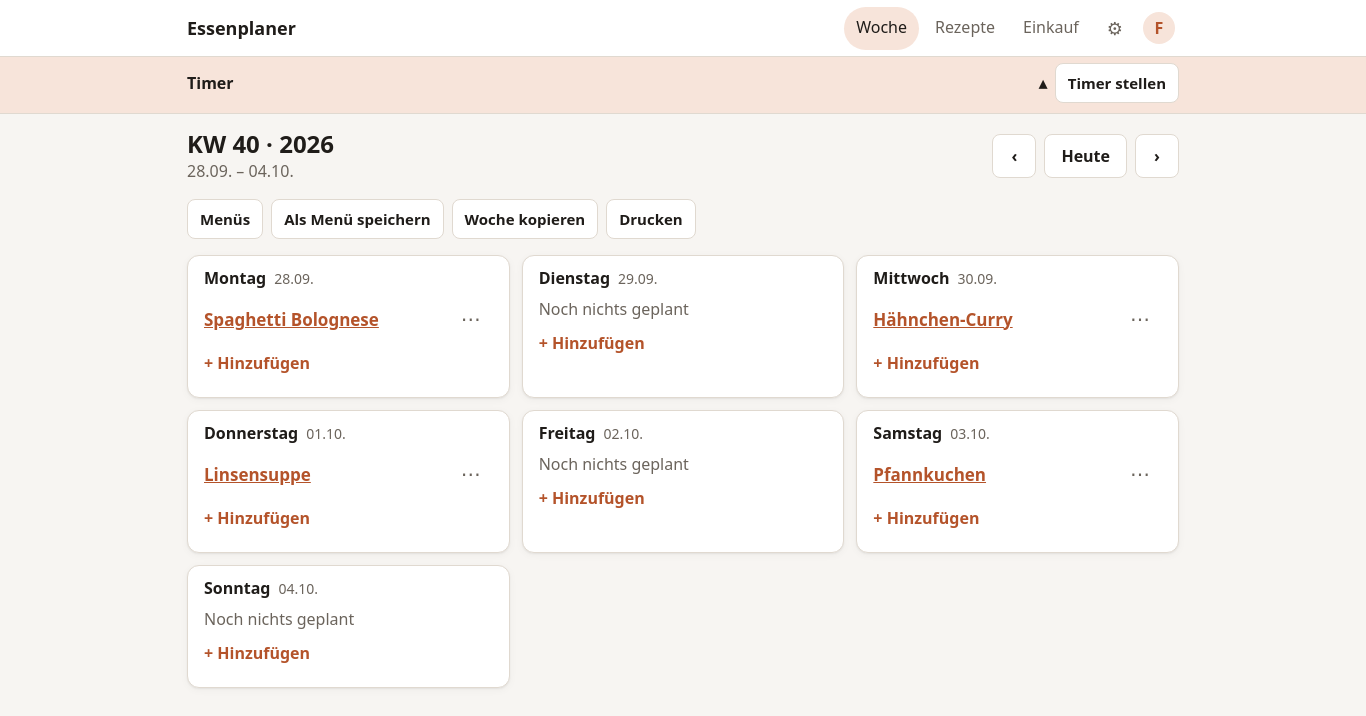
it: Menüs › speichert die angezeigte Woche als Menü
The image size is (1366, 716).
Click the button "Als Menü speichern": (357, 219) [271, 199, 444, 239]
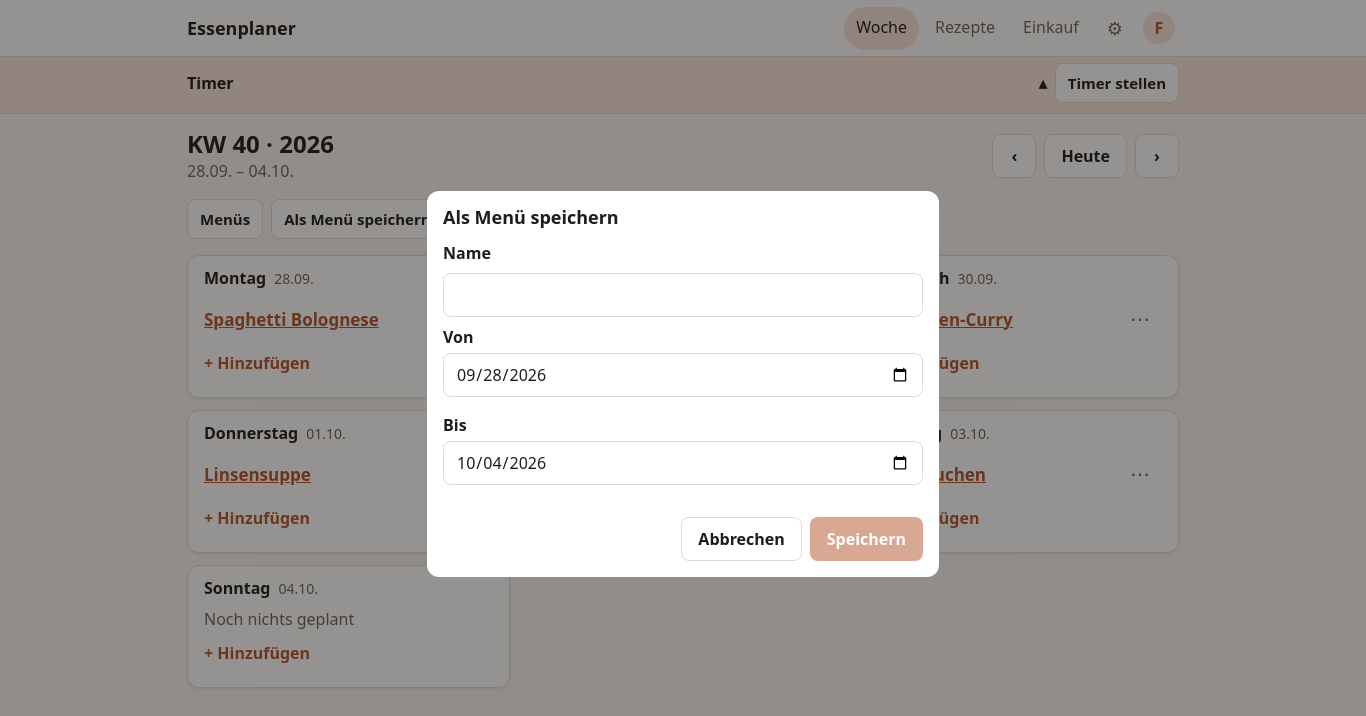
In the field labelled "Name": (683, 295) [443, 273, 923, 317], type "Herbstwoche"
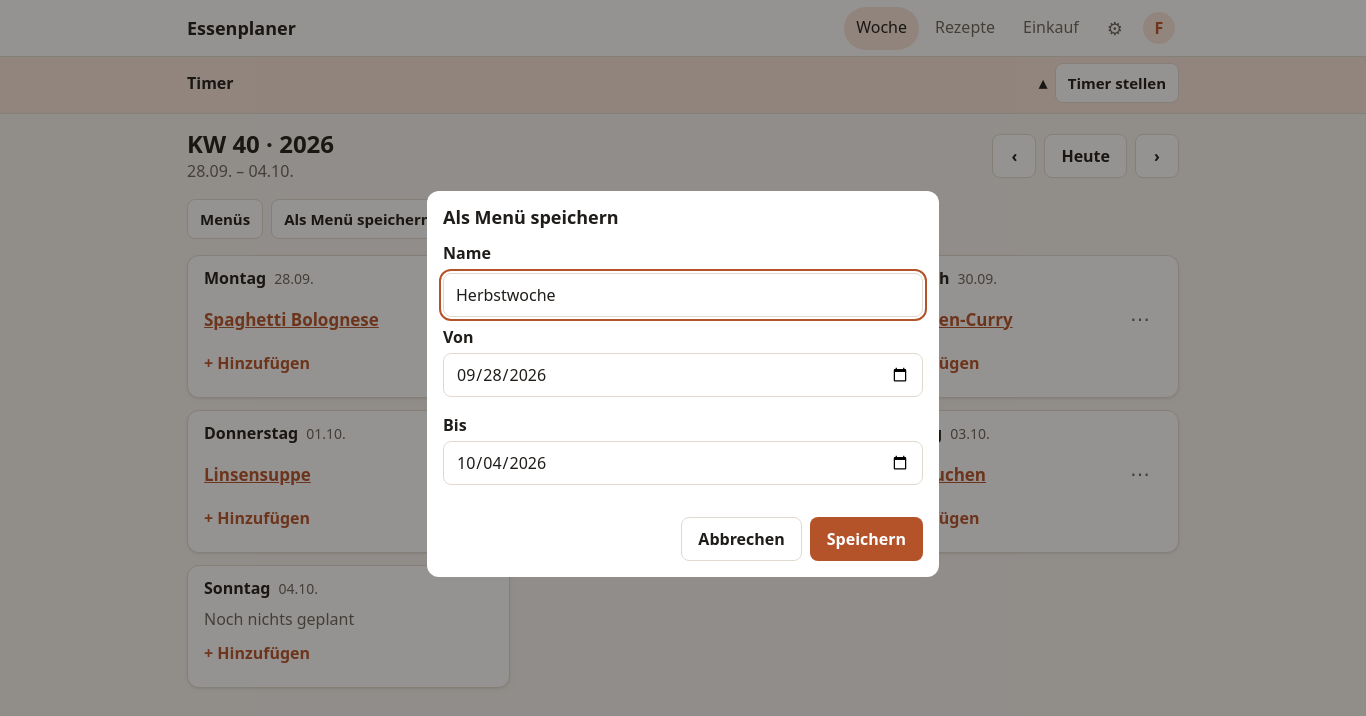
Click the button "Speichern": (866, 539) [810, 517, 923, 561]
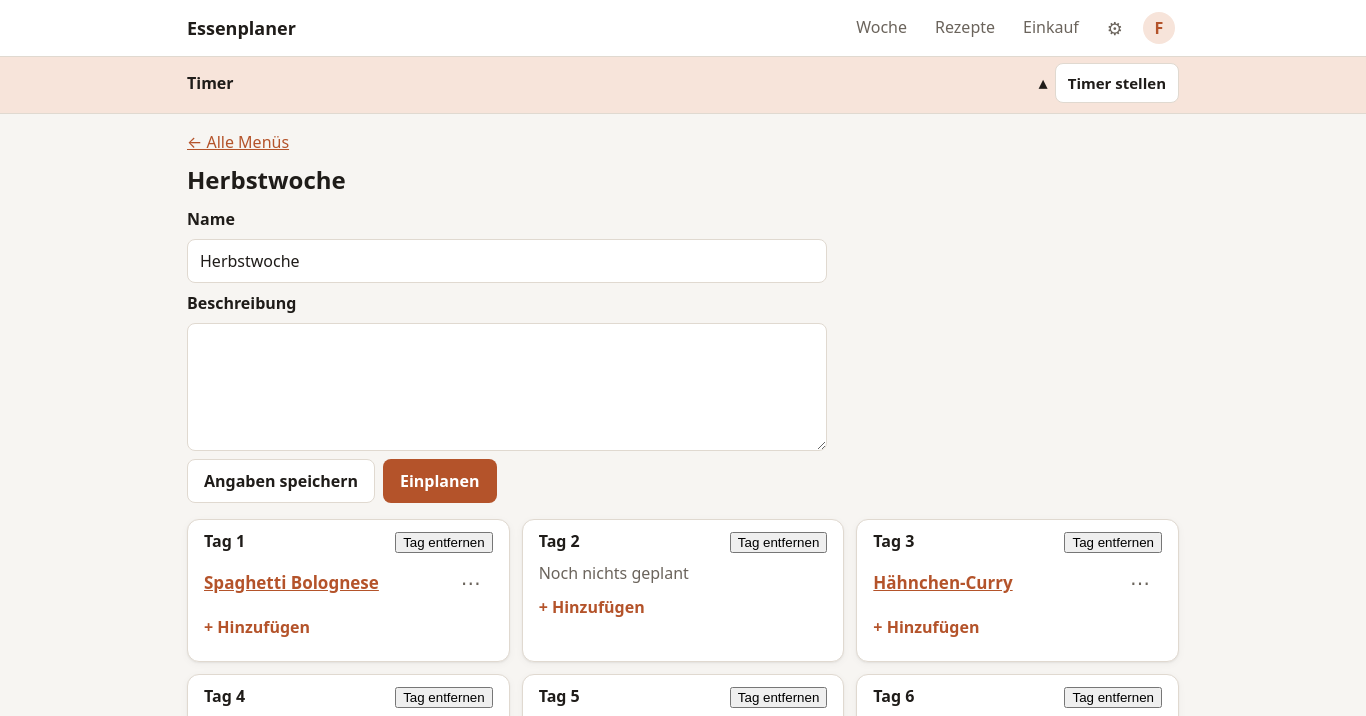
Check: the heading "Herbstwoche" is shown, box [187, 163, 346, 196]
Check: the heading "Tag 1" is shown, box [204, 532, 245, 551]
Check: the heading "Tag 6" is shown, box [873, 687, 914, 706]
